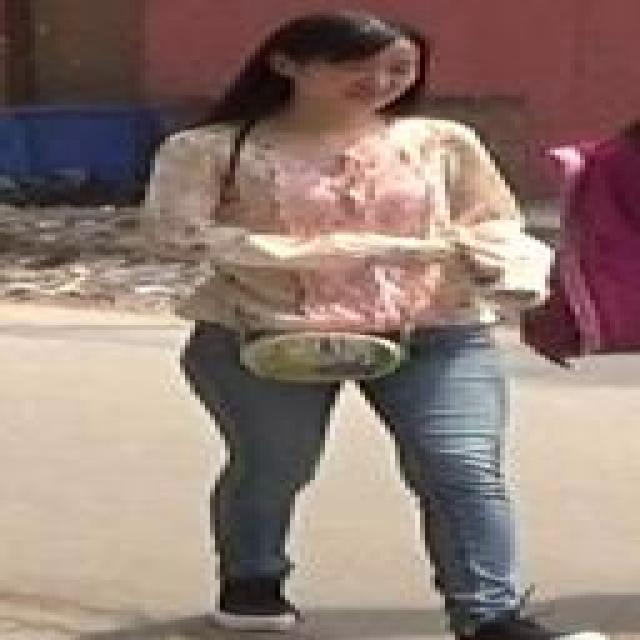adult: (115, 7, 620, 640)
